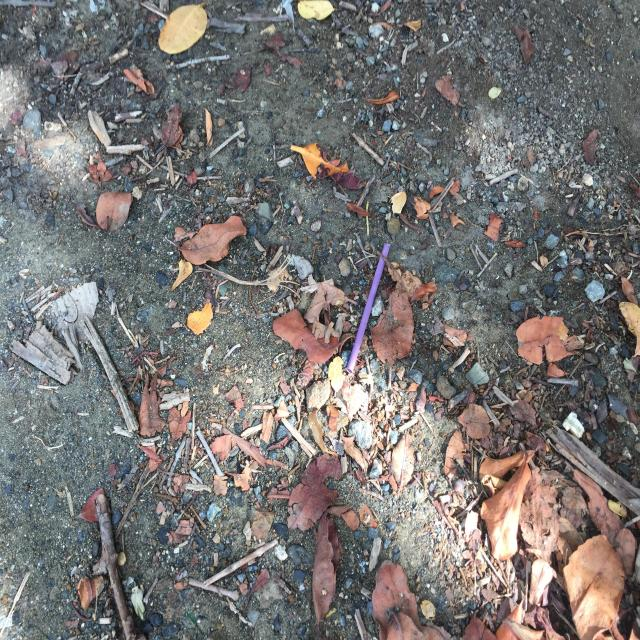litter: (347, 243, 390, 373), (563, 411, 585, 439)
